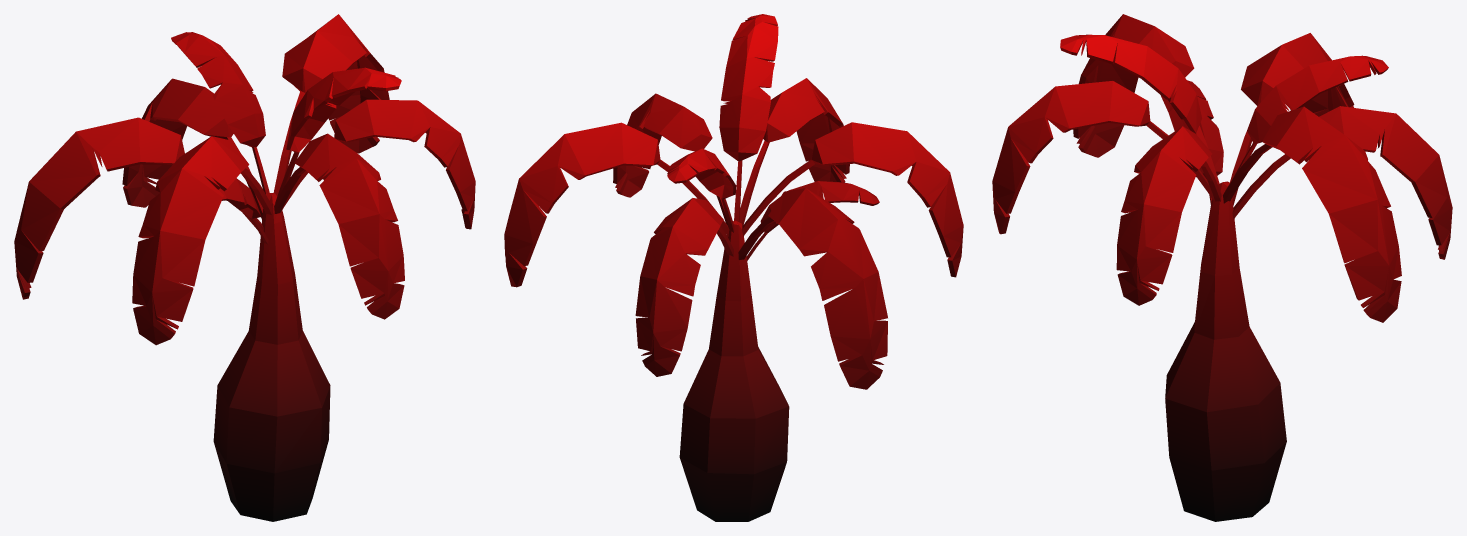
File: TreePalmLarge03.fbx
3 views of the same model, side by side, from view 1: azimuth 30°, elevation 25°; view 2: azimuth 150°, elevation 25°; view 3: azimuth 270°, elevation 25° (orthographic). The views are drawn at different scales.
Visible parts, largest first — view 1: TreePalmLarge03_LOD0; view 2: TreePalmLarge03_LOD0; view 3: TreePalmLarge03_LOD0.
Boxes of the visible parts, <box> form: TreePalmLarge03_LOD0: <box>14,14,475,521</box>; TreePalmLarge03_LOD0: <box>504,14,963,521</box>; TreePalmLarge03_LOD0: <box>992,14,1452,521</box>.
Size of what is drawn, in the model's own units: 201 by 235 by 201.
